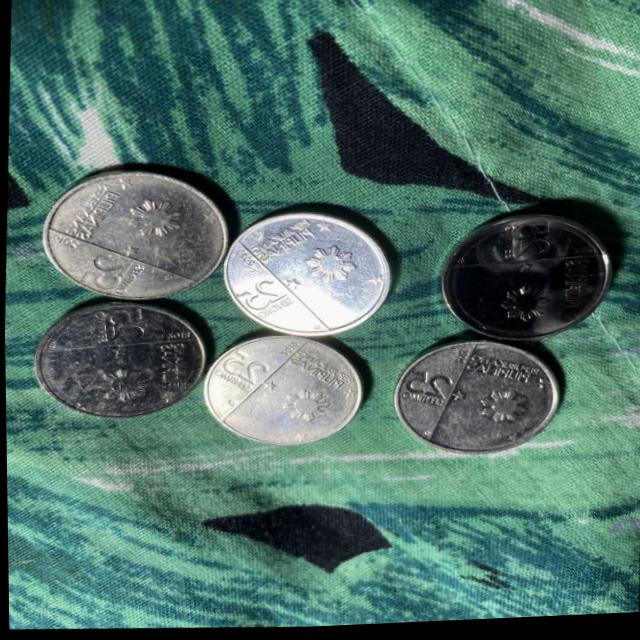25Cent_New_Front: (78, 251, 131, 295), (503, 225, 552, 267), (403, 369, 460, 403), (233, 276, 284, 313), (101, 310, 144, 345), (223, 353, 266, 388)
